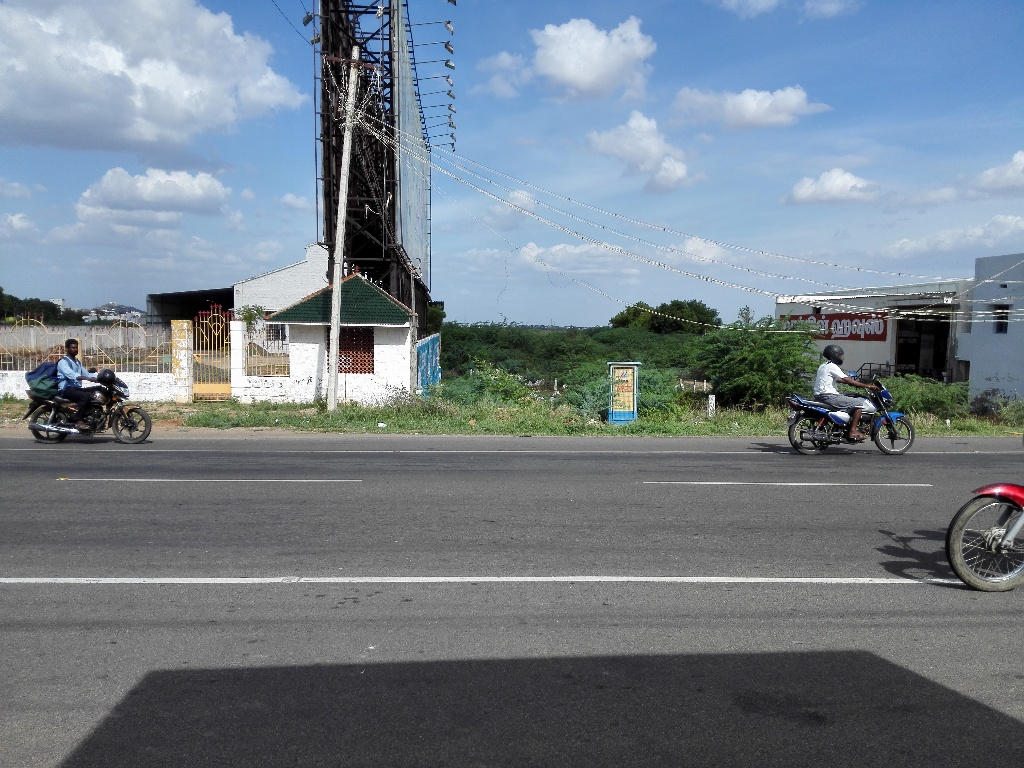biker: (14, 315, 168, 462), (775, 319, 929, 466)
helmet: (816, 335, 855, 376)
nohelmet: (54, 328, 93, 369)
